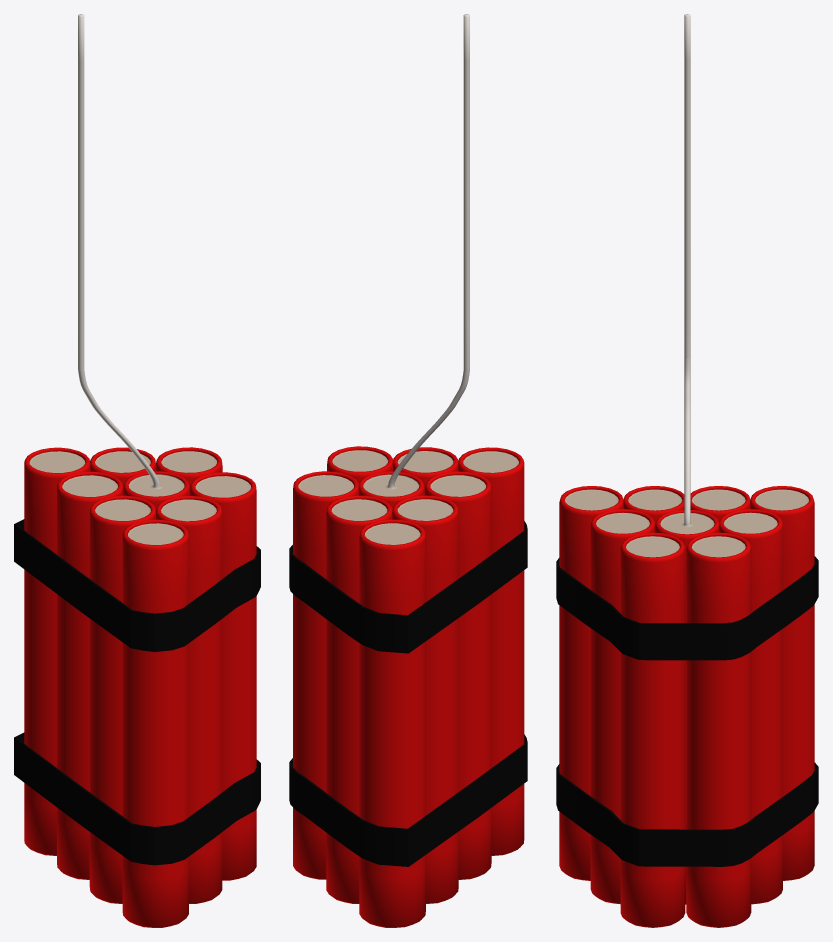
File: TNT_red_black.fbx
3 renders of one model, left to right at view 1: azimuth 30°, elevation 25°; view 2: azimuth 150°, elevation 25°; view 3: azimuth 270°, elevation 25°, orthographic. The views are drawn at different scales.
Visible parts, largest first — view 1: pCylinder5, pCylinder9, pCylinder4, pCylinder7, pCylinder2, pCylinder3, pPlane3, pPlane2, pCylinder1, pCylinder8, pCylinder6; view 2: pCylinder2, pCylinder4, pCylinder5, pCylinder6, pCylinder8, pCylinder3, pPlane3, pPlane2, pCylinder1, pCylinder9, pCylinder7; view 3: pCylinder8, pCylinder9, pCylinder6, pCylinder5, pCylinder2, pCylinder7, pPlane3, pPlane2, pCylinder1, pCylinder4, pCylinder3.
Boxes of the visible parts, box(x1,y1,x2,y2) form: pCylinder5: box(122, 519, 188, 927); pCylinder9: box(190, 472, 256, 880); pCylinder4: box(89, 495, 155, 903); pCylinder7: box(156, 496, 222, 903); pCylinder2: box(24, 447, 90, 855); pCylinder3: box(57, 471, 123, 879); pPlane3: box(14, 732, 260, 865); pPlane2: box(14, 519, 260, 651); pCylinder1: box(78, 14, 189, 509); pCylinder8: box(156, 447, 222, 488); pCylinder6: box(90, 447, 156, 487); pCylinder2: box(359, 519, 425, 927); pCylinder4: box(425, 471, 491, 879); pCylinder5: box(458, 447, 524, 855); pCylinder6: box(326, 495, 392, 903); pCylinder8: box(293, 471, 358, 879); pCylinder3: box(392, 495, 458, 903); pPlane3: box(289, 734, 527, 866); pPlane2: box(289, 521, 527, 653); pCylinder1: box(358, 14, 469, 509); pCylinder9: box(327, 446, 392, 483); pCylinder7: box(392, 447, 458, 495); pCylinder8: box(686, 532, 751, 927); pCylinder9: box(620, 532, 685, 927); pCylinder6: box(719, 509, 782, 904); pCylinder5: box(559, 486, 623, 880); pCylinder2: box(750, 486, 814, 880); pCylinder7: box(590, 509, 655, 904); pPlane3: box(556, 762, 818, 866); pPlane2: box(556, 556, 818, 660); pCylinder1: box(655, 14, 719, 904); pCylinder4: box(623, 486, 684, 524); pCylinder3: box(690, 486, 750, 521).
Bounding box in the file's own units: 2.83 × 14.59 × 4.12.
